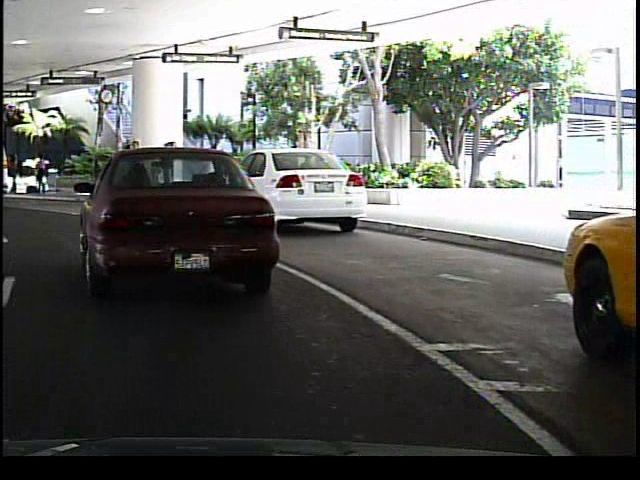person: (121, 136, 144, 201), (157, 137, 180, 197), (198, 144, 223, 194), (31, 154, 56, 197), (6, 147, 23, 196)
